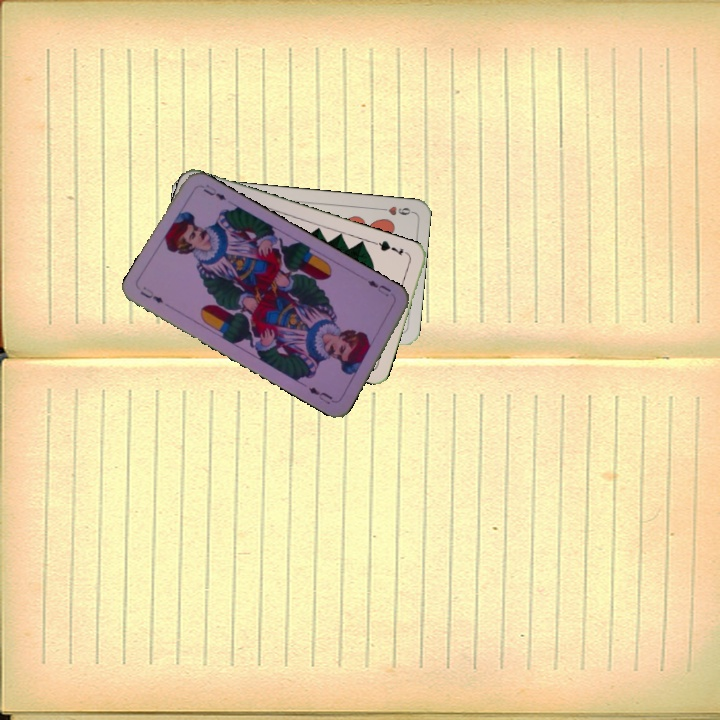EU: (136, 282, 166, 306), (364, 276, 394, 299)
G7: (372, 236, 411, 258)
H9: (374, 202, 415, 218)
